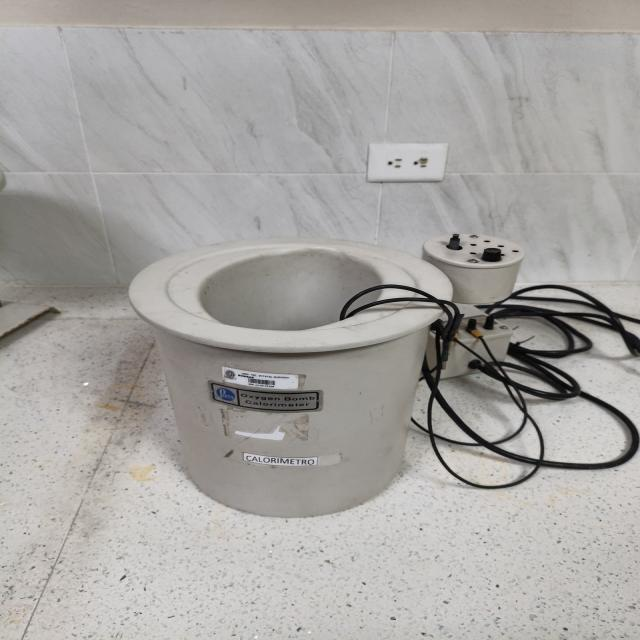Bomba Calorimetrica de Oxigeno: (129, 234, 523, 516)
